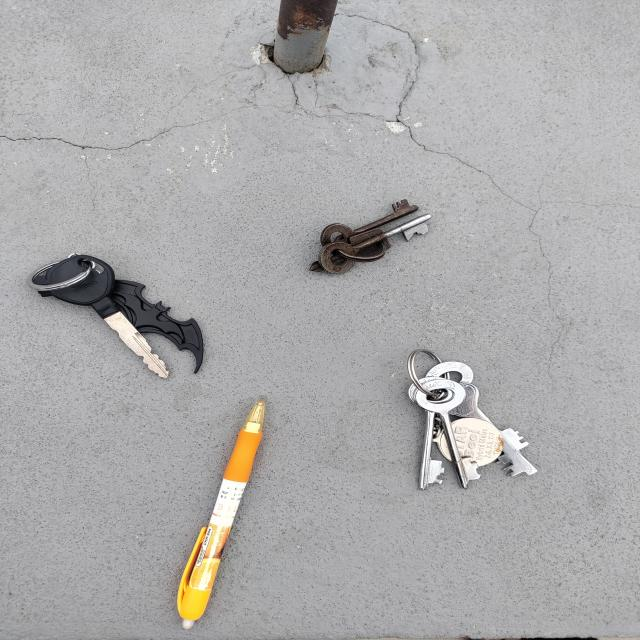dry: (176, 394, 269, 630), (31, 252, 207, 376), (407, 348, 538, 490), (309, 198, 433, 274)
